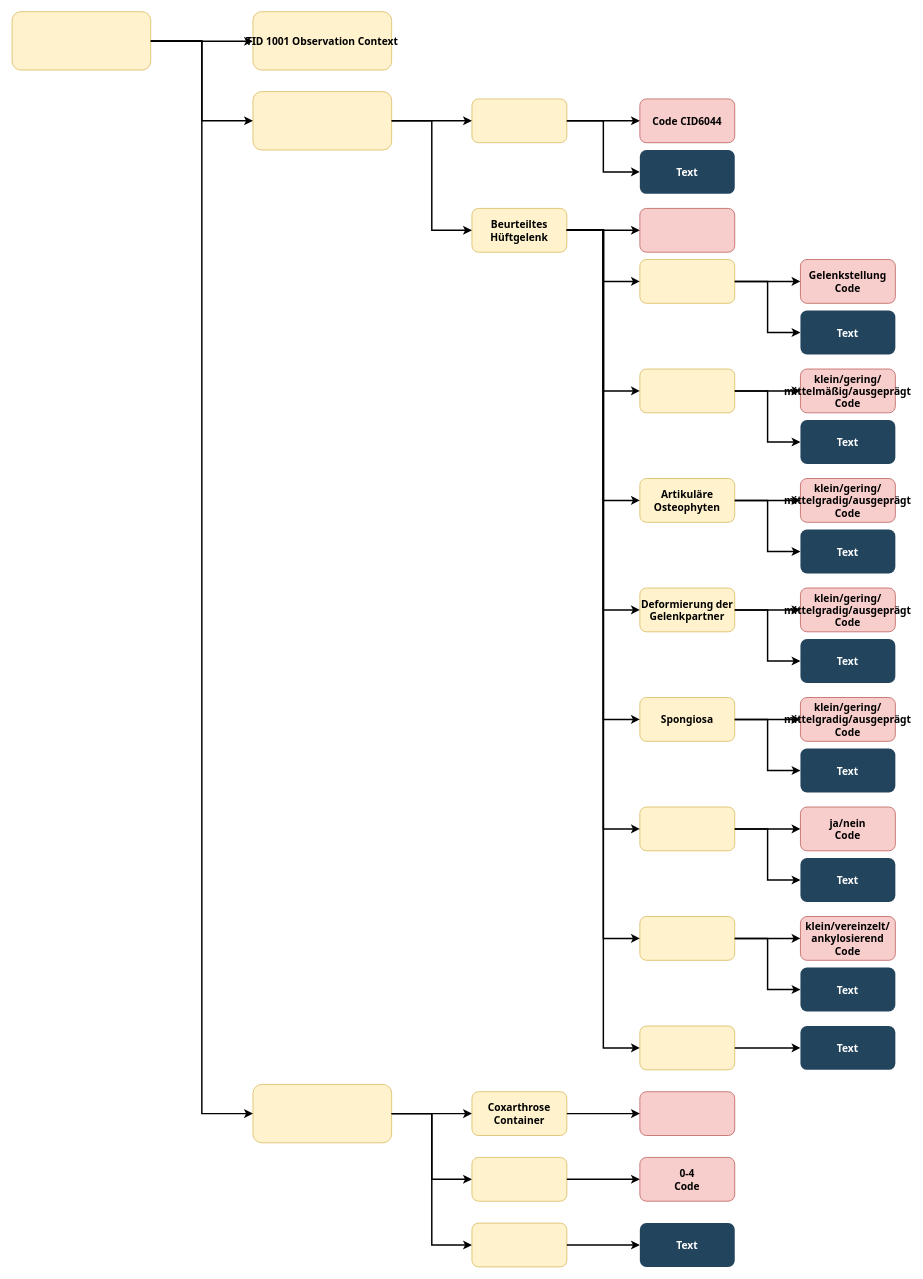
This 923x1279 diagram has some shape labels left out. The shapes that lost their labels are listed below. From the top down, each one's centre as x and y in pixels, then its label:
(x=81, y=40): Container (Root)
(x=322, y=120): Befund
(x=519, y=120): Bildqualität Container
(x=687, y=230): Code CID247
(x=687, y=281): Gelenkstellung
(x=687, y=390): Subchondrale Sklerosierung
(x=687, y=828): Beckenarchitektur
(x=687, y=938): Paraarikuläre Weichteile
(x=687, y=1047): Sonstiges
(x=322, y=1113): Beurteilung
(x=687, y=1113): klein/dysplastisch/ degenerativ/ posttraumatisch Code
(x=519, y=1179): Kellgren-Score Container
(x=519, y=1244): Sonstiges Container
